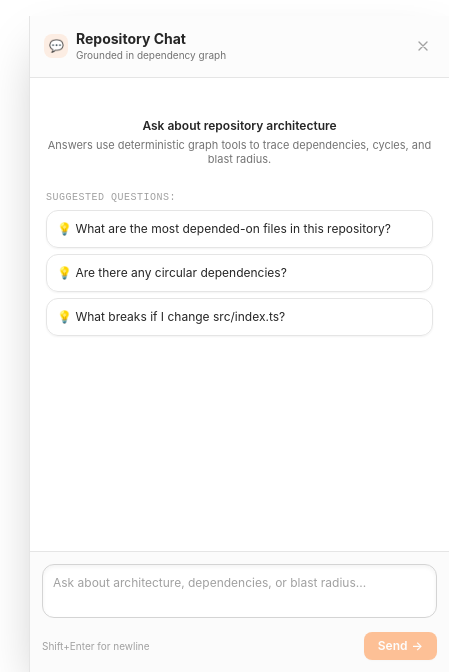
it: Explain and Chat Components › ChatDrawer › renders suggested questions and handles sending chat message
# Click starter question
Click the button "💡 What are the most depended-on files in this repository?" at (240, 229), box [46,210,433,248]
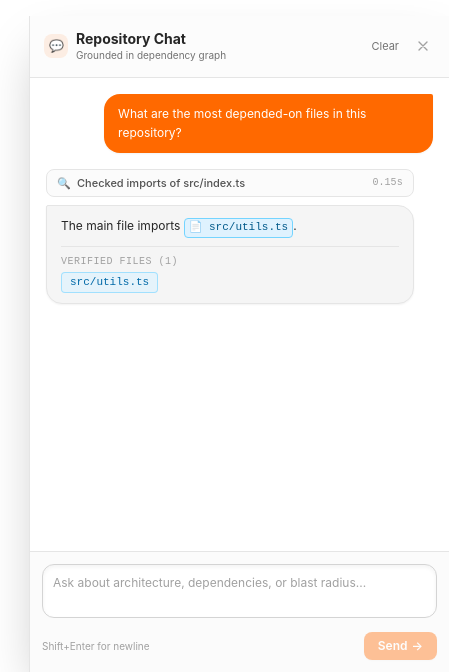
expect the text "The main file imports 📄 src/utils.ts ." is shown: met, box [61,218,297,238]
expect the text "Checked imports of src/index.ts" is shown: met, box [77,176,245,190]
